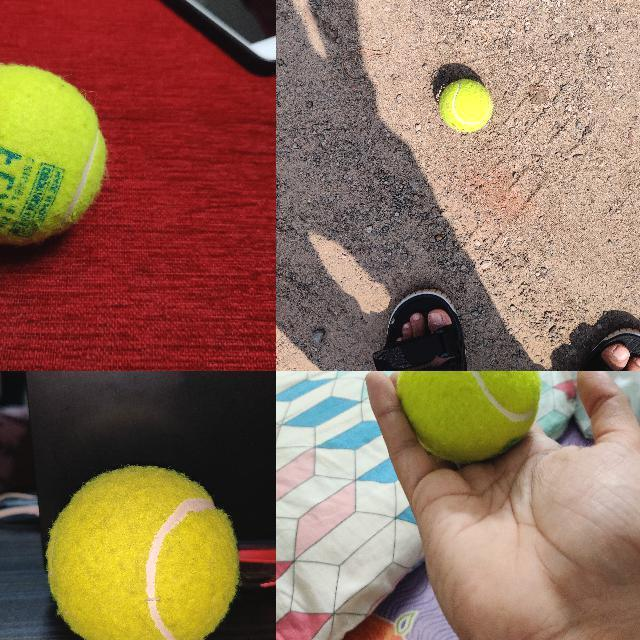Tennis Ball: (47, 463, 240, 639), (1, 61, 108, 246), (398, 371, 540, 460), (440, 79, 493, 132)
